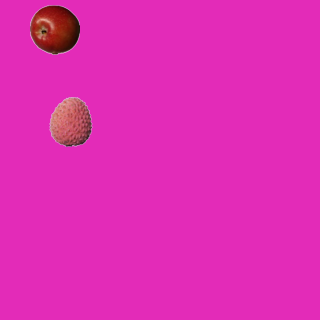Apple Braeburn: (29, 4, 79, 54)
Lychee: (45, 96, 95, 146)
